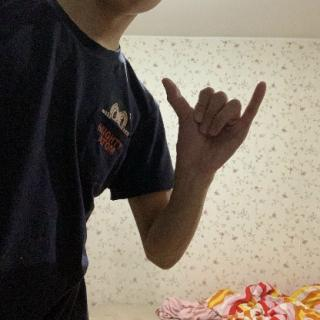YA: (155, 74, 268, 178)
